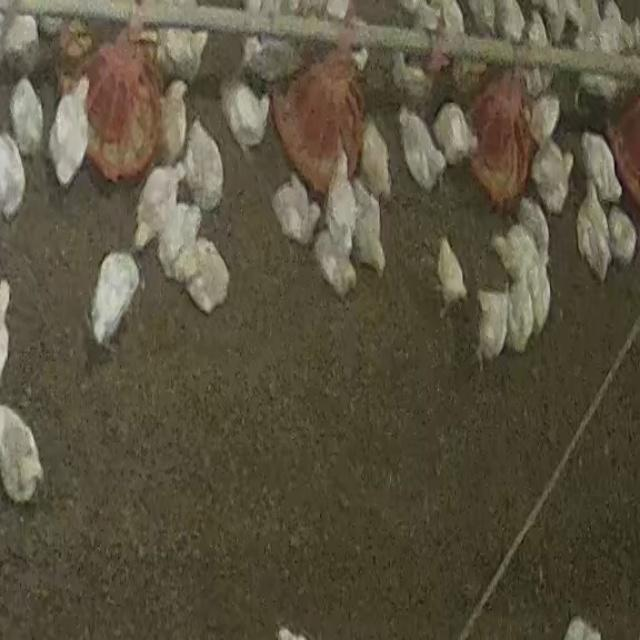chicken: (47, 79, 92, 189), (134, 160, 187, 253), (0, 405, 44, 507), (91, 253, 138, 345), (574, 178, 615, 282), (154, 198, 203, 282), (398, 108, 448, 189), (186, 119, 226, 209), (184, 241, 232, 315), (222, 78, 271, 150), (328, 145, 359, 256), (578, 130, 623, 206), (350, 181, 385, 276), (532, 134, 574, 212), (155, 77, 191, 168), (8, 78, 46, 162), (492, 222, 540, 288), (506, 270, 540, 358), (156, 27, 209, 82), (358, 117, 393, 199), (276, 175, 317, 243), (434, 235, 470, 311), (2, 12, 43, 78), (433, 100, 475, 164), (316, 232, 357, 297), (244, 34, 302, 78), (0, 132, 28, 223), (476, 288, 509, 361), (388, 52, 432, 104), (517, 195, 550, 262), (527, 253, 553, 335), (606, 206, 638, 268), (528, 93, 561, 147), (594, 5, 628, 52), (496, 0, 526, 42)
